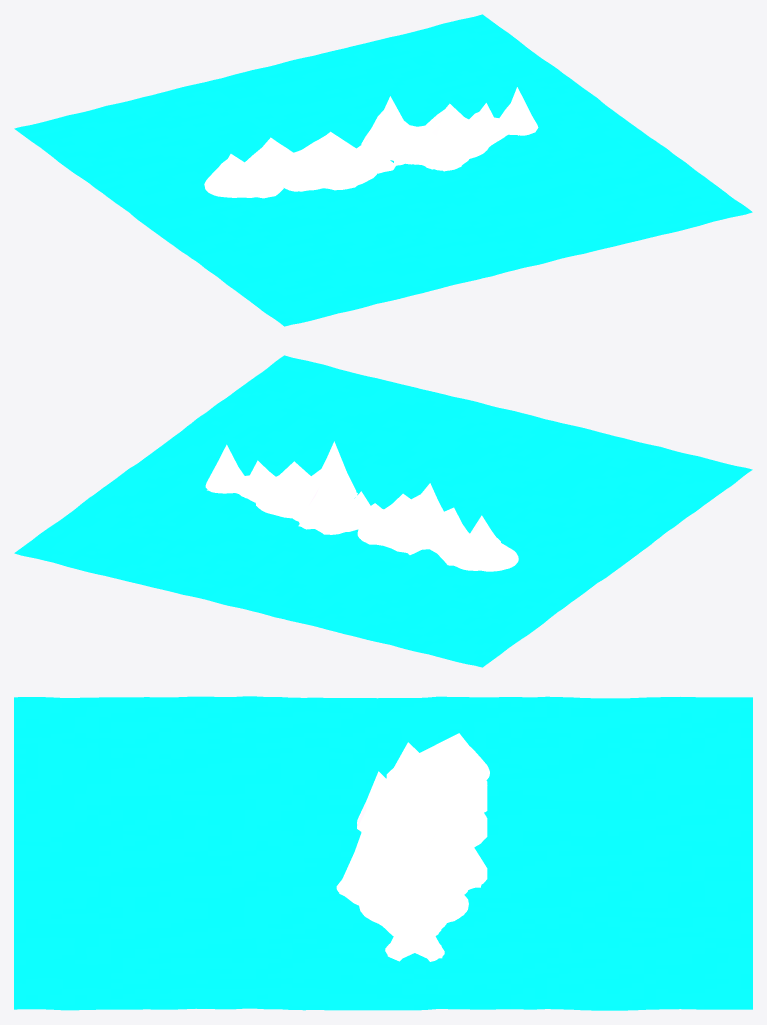
The model's file is MountainsDR.fbx.
The picture shows the model from 3 angles, top to bottom: view 1: azimuth 30°, elevation 25°; view 2: azimuth 150°, elevation 25°; view 3: azimuth 270°, elevation 25°; orthographic projection. The views are drawn at different scales.
Visible parts, largest first — view 1: Plane.001, Plane; view 2: Plane.001, Plane; view 3: Plane.001, Plane.
Part boxes in pixels (x1,y1,x2,y2): Plane.001: (14, 14, 752, 326); Plane: (204, 87, 538, 198); Plane.001: (14, 355, 752, 667); Plane: (205, 441, 518, 571); Plane.001: (14, 696, 752, 1010); Plane: (336, 733, 489, 961).
Bounding box in the file's own units: 14449 × 1766 × 14449.
